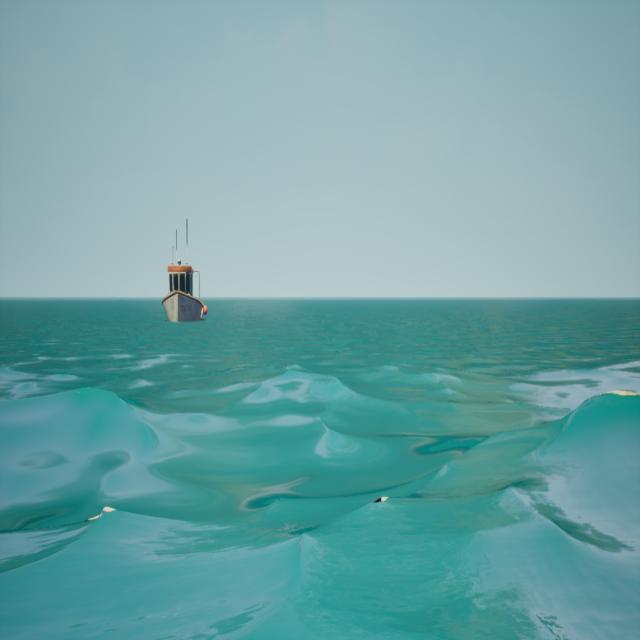ship: (160, 211, 210, 325)
